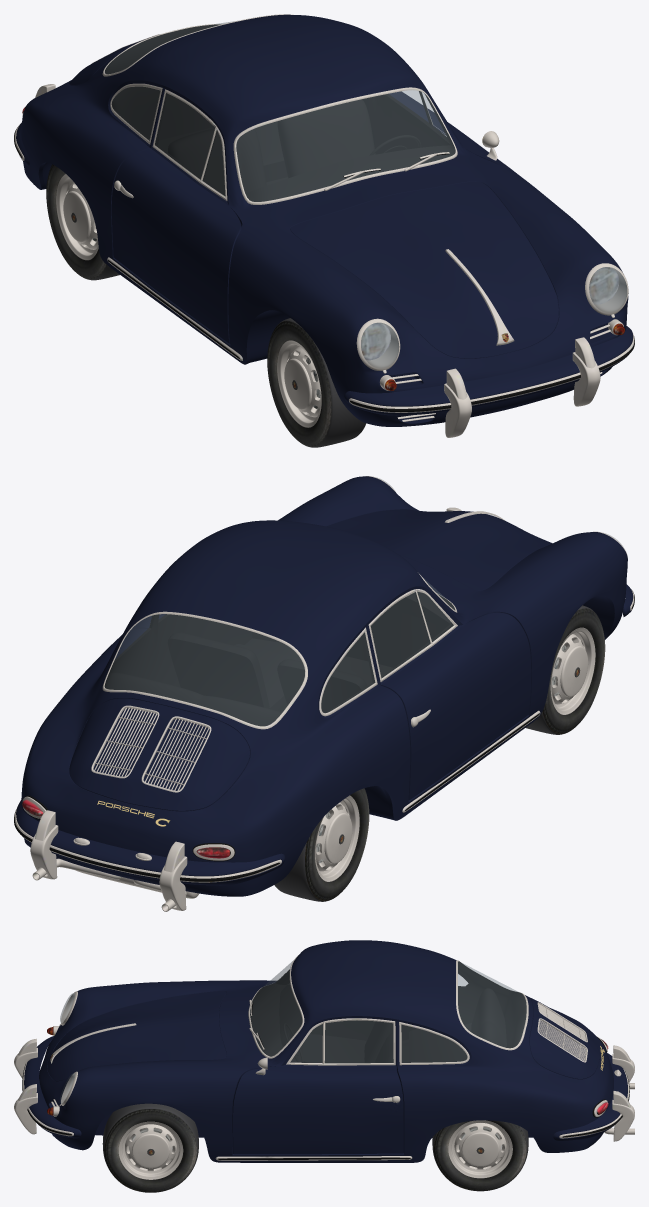
3 views of the same model, one above another, from view 1: azimuth 30°, elevation 25°; view 2: azimuth 150°, elevation 25°; view 3: azimuth 270°, elevation 25° (orthographic). The views are drawn at different scales.
Visible parts, largest first — view 1: 356C_Porsche356_0, glass_glass_0, interior_Porsche356_0, chrome_Porsche356_0 (×2), rubber_Porsche356_0; view 2: 356C_Porsche356_0, glass_glass_0, interior_Porsche356_0, chrome_Porsche356_0 (×2), rubber_Porsche356_0, glass_Porsche356_0; view 3: 356C_Porsche356_0, chrome_Porsche356_0, glass_glass_0, interior_Porsche356_0, rubber_Porsche356_0.
Boxes of the visible parts, x1,y1,x2,y2 form: 356C_Porsche356_0: (16, 14, 633, 426); glass_glass_0: (105, 21, 626, 368); interior_Porsche356_0: (105, 24, 455, 201); chrome_Porsche356_0 (×2): (14, 14, 634, 437); rubber_Porsche356_0: (14, 126, 634, 447); 356C_Porsche356_0: (16, 476, 633, 896); glass_glass_0: (105, 479, 622, 725); interior_Porsche356_0: (104, 592, 454, 726); chrome_Porsche356_0 (×2): (14, 476, 634, 911); rubber_Porsche356_0: (14, 589, 634, 901); glass_Porsche356_0: (22, 799, 230, 859); 356C_Porsche356_0: (24, 940, 627, 1162); chrome_Porsche356_0: (14, 956, 634, 1179); glass_glass_0: (60, 961, 526, 1103); interior_Porsche356_0: (250, 961, 526, 1063); rubber_Porsche356_0: (22, 1002, 629, 1192).
Size of the model in its own units: 1.67 by 1.34 by 4.09.
Materials: 2 (2 with a texture image).
